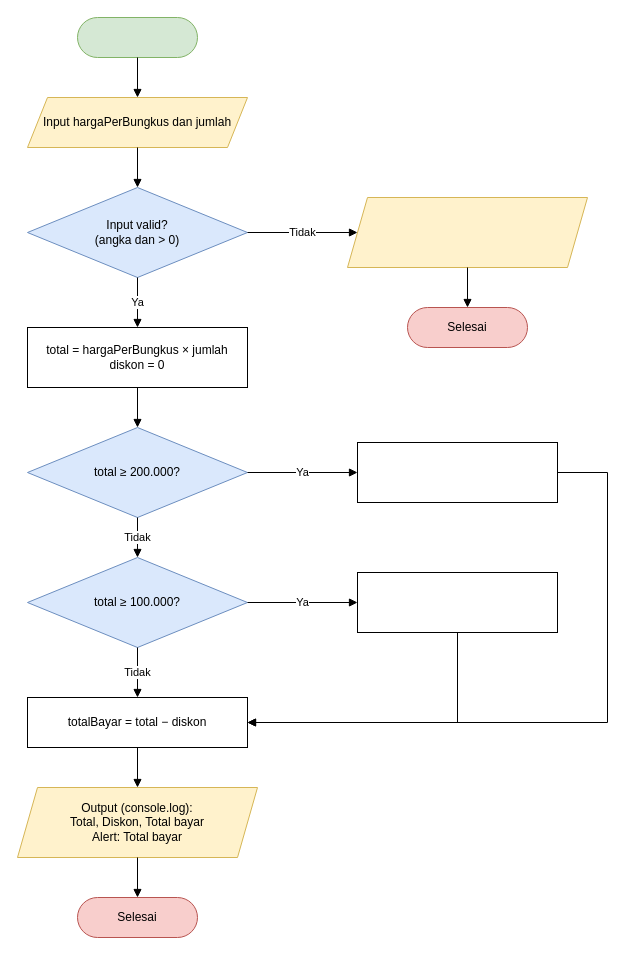
The diagram is 633 pixels wide and 955 high, and some of its shapes have lost their labels. Here are the shapes that lost their labels. From the top down, the centre of each, then its label:
the point at 137,37: Mulai
the point at 467,232: Alert: "Harga dan jumlah harus berupa angka lebih dari 0"
the point at 457,472: diskon = total × 0,10
the point at 457,602: diskon = total × 0,05
